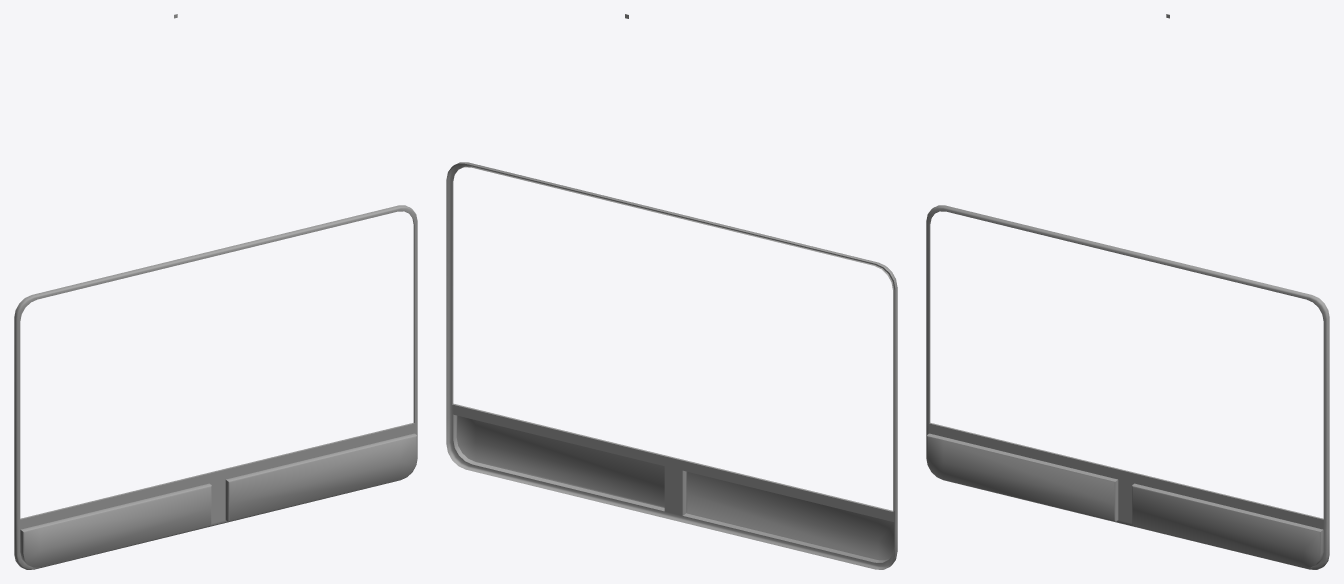
File: MainMeshLaptop_12_0_GeomSubset_1.obj
The picture shows the model from 3 angles, left to right: view 1: azimuth 30°, elevation 25°; view 2: azimuth 150°, elevation 25°; view 3: azimuth 330°, elevation 25°; orthographic projection. The views are drawn at different scales.
Parts seen in each view (by area): view 1: MainMeshLaptop_12_0_GeomSubset_1; view 2: MainMeshLaptop_12_0_GeomSubset_1; view 3: MainMeshLaptop_12_0_GeomSubset_1.
Part boxes in pixels (box(x1,y1,x2,y2)): MainMeshLaptop_12_0_GeomSubset_1: box(14, 14, 417, 569); MainMeshLaptop_12_0_GeomSubset_1: box(446, 14, 897, 569); MainMeshLaptop_12_0_GeomSubset_1: box(926, 14, 1329, 569).
Bounding box in the file's own units: 0.1424 × 0.1628 × 0.0274.
